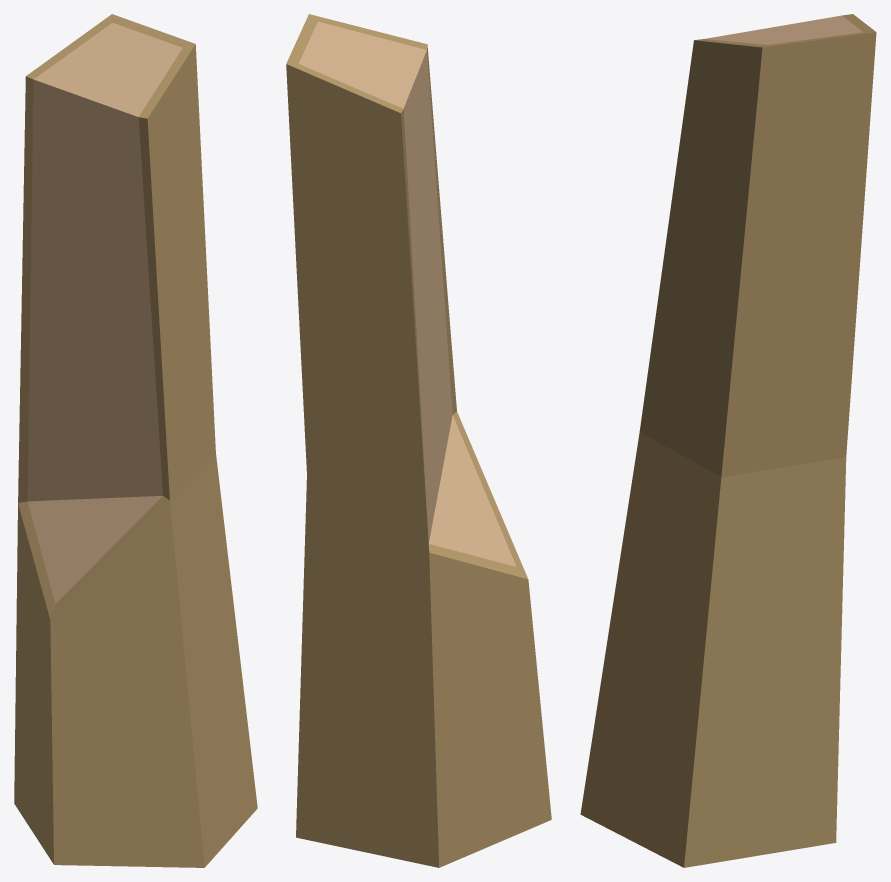
The model's file is Acacia_Stump_01.fbx.
The picture shows the model from 3 angles, left to right: view 1: azimuth 30°, elevation 25°; view 2: azimuth 150°, elevation 25°; view 3: azimuth 270°, elevation 25°; orthographic projection. The views are drawn at different scales.
Visible parts, largest first — view 1: Acacia_Stump_01; view 2: Acacia_Stump_01; view 3: Acacia_Stump_01.
Boxes of the visible parts, x1,y1,x2,y2 form: Acacia_Stump_01: (14,14,257,867); Acacia_Stump_01: (286,14,551,867); Acacia_Stump_01: (580,14,876,867).
Size of the model in its own units: 69.49 by 234 by 77.97.
